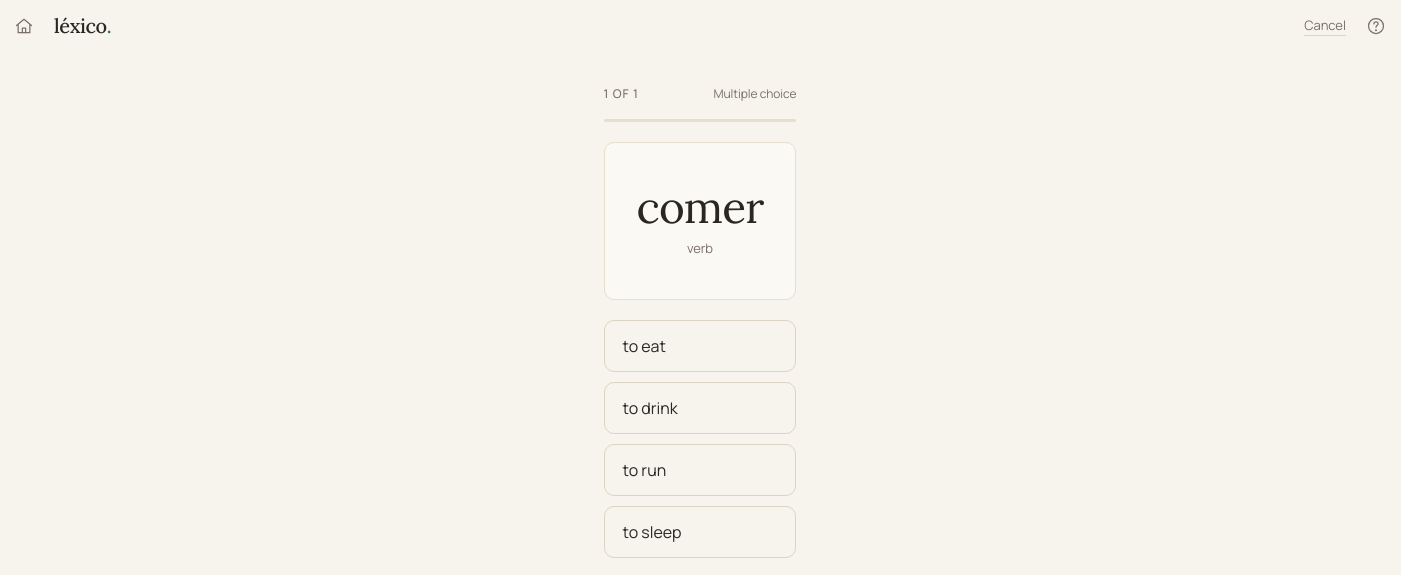
Test case: VocabSessionScreen › end session › shows End & review link after answering a card
Expected: the text "comer" is shown, [637,183,763,231]
Click the button "to eat" at (700, 346), box [604,320,796,372]
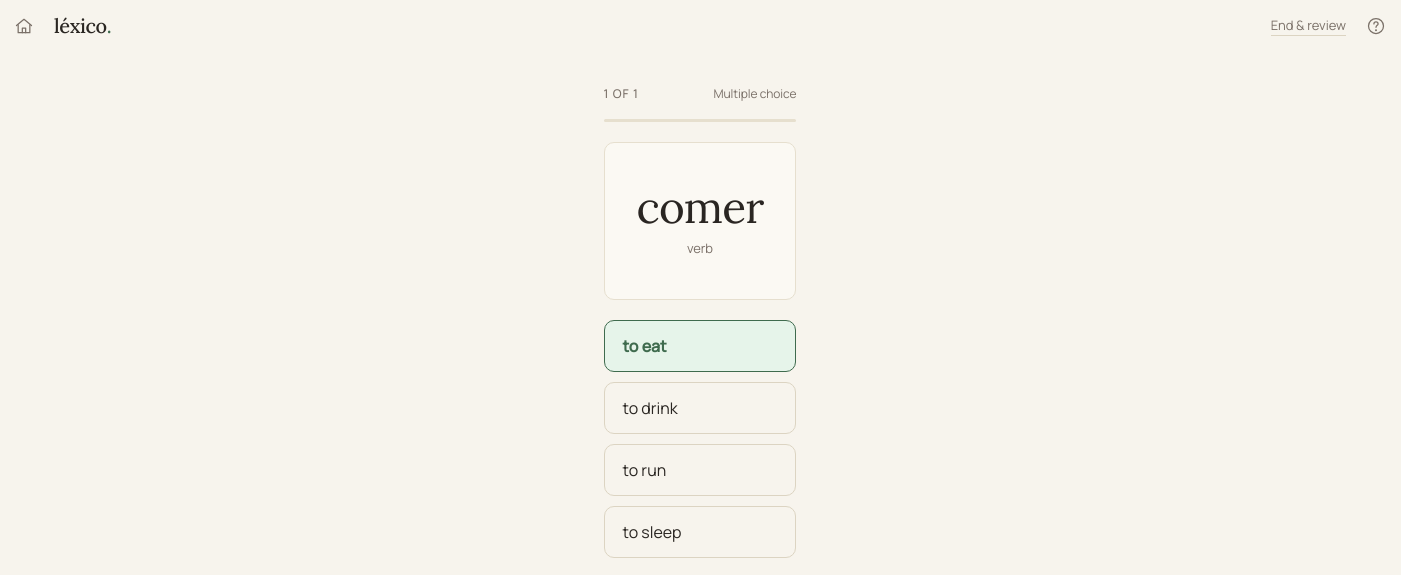
Expected: the button "End & review" is shown, [1271,16,1346,36]
